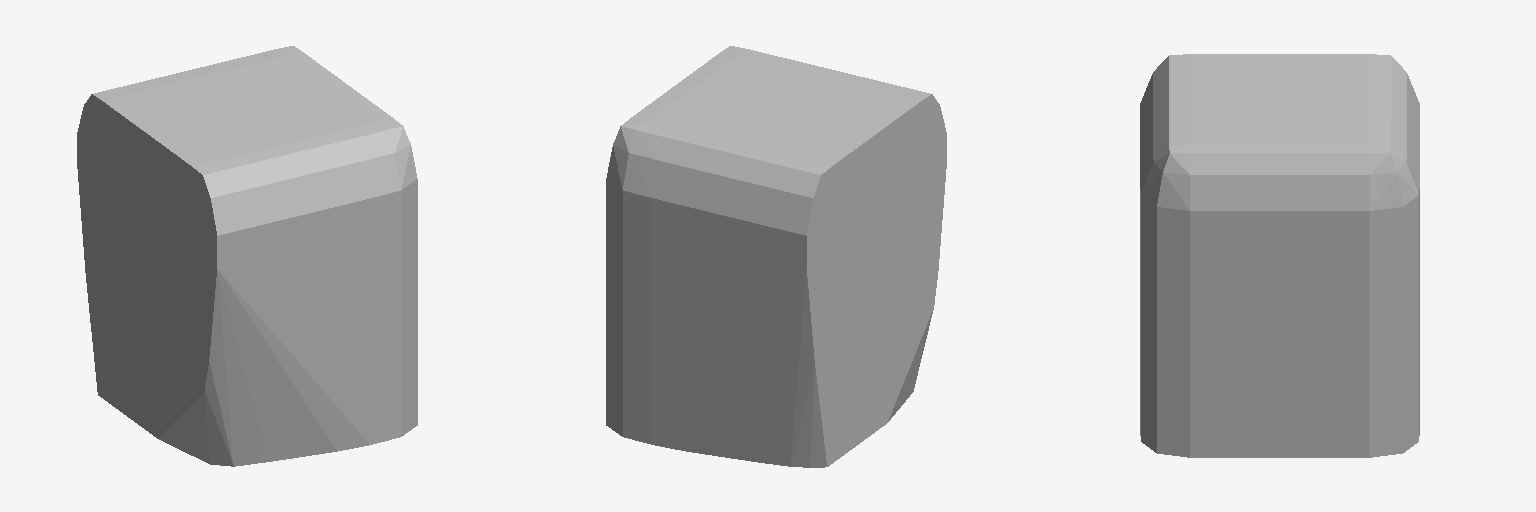
The model's file is Window_Slider_48x36_collision_12.obj.
3 renders of one model, left to right at view 1: azimuth 30°, elevation 25°; view 2: azimuth 150°, elevation 25°; view 3: azimuth 270°, elevation 25°, orthographic.
Bounding box in the file's own units: 0.0848 × 0.1108 × 0.0947.